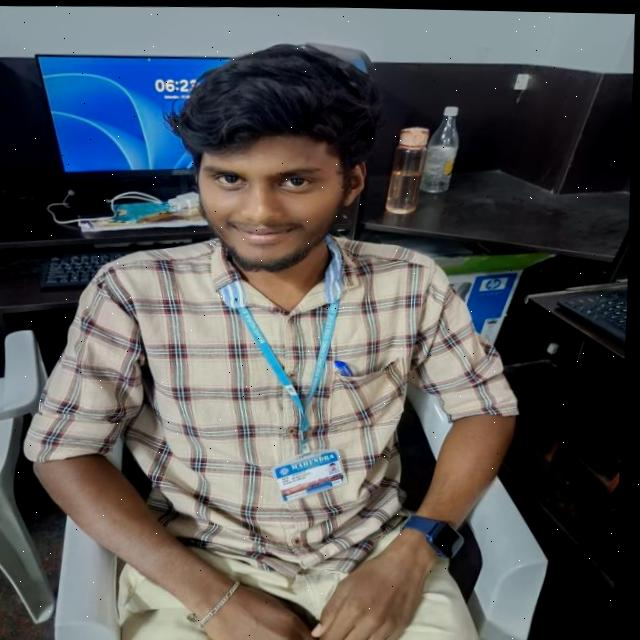id_card: (230, 267, 365, 502)
